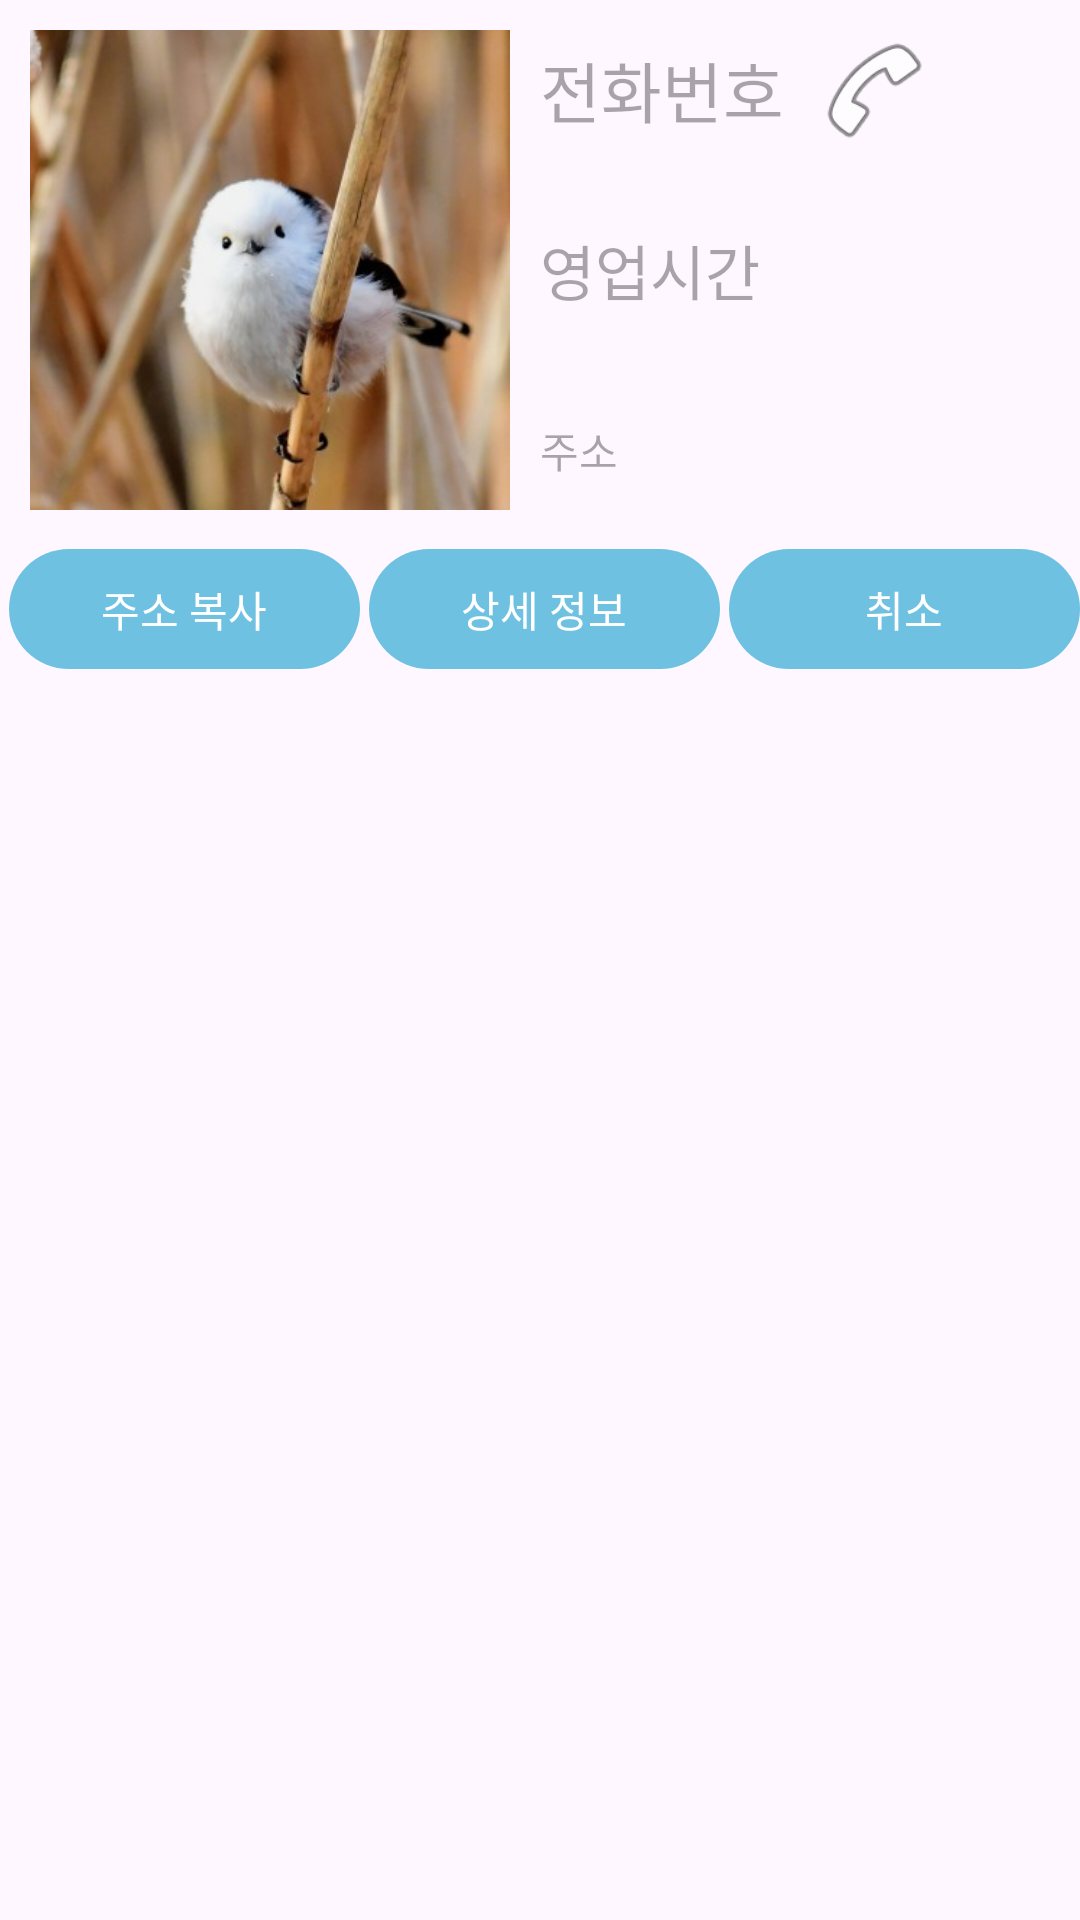

Screen size 1080 x 1920. Icon name, then its box in pixels as (x1, y1, x2, y2):
call: (828, 44, 922, 138)
